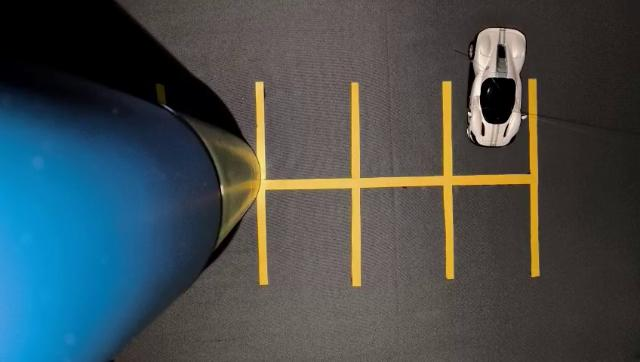toy_car: (441, 5, 545, 160)
